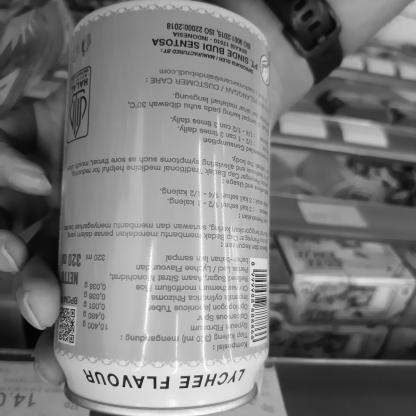alumunium_can: (52, 4, 286, 416)
